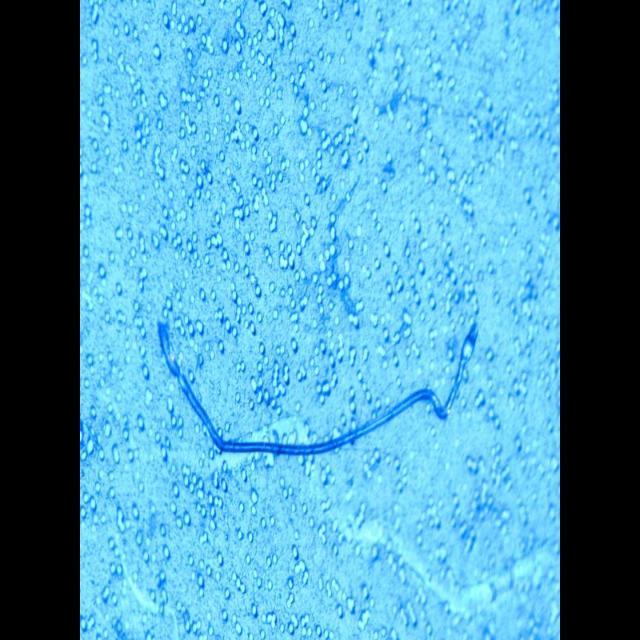Fibre: (157, 314, 480, 458)
